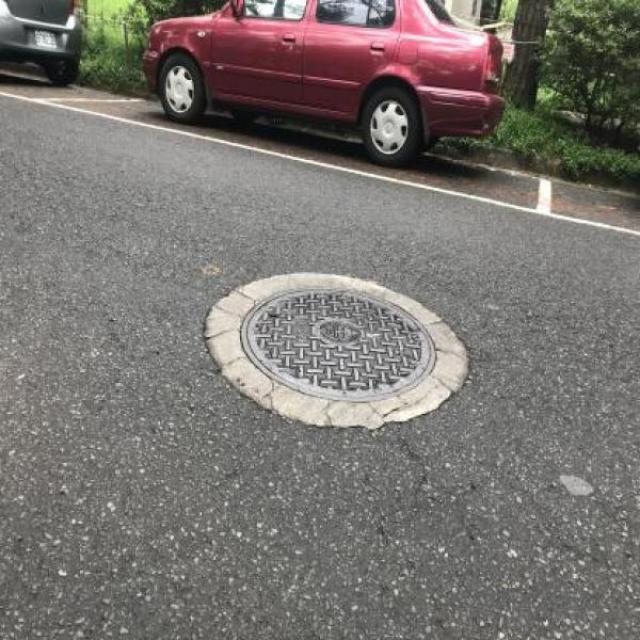Good: (235, 280, 442, 408)
